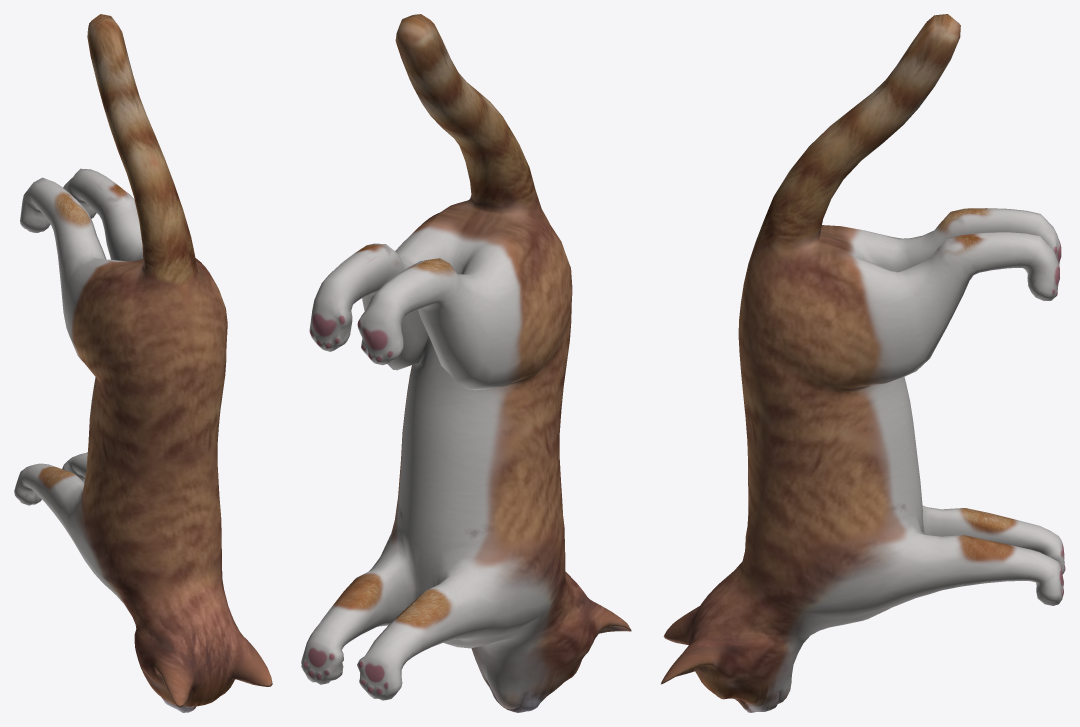
File: cat.glb
3 renders of one model, left to right at view 1: azimuth 30°, elevation 25°; view 2: azimuth 150°, elevation 25°; view 3: azimuth 270°, elevation 25°, orthographic. The views are drawn at different scales.
Visible parts, largest first — view 1: Cat; view 2: Cat; view 3: Cat.
Boxes of the visible parts, x1,y1,x2,y2 form: Cat: [14, 14, 272, 712]; Cat: [301, 14, 631, 712]; Cat: [661, 14, 1065, 712].
Size of the model in its own units: 0.5813 by 2.89 by 1.52.
Materials: 1 (1 with a texture image).
